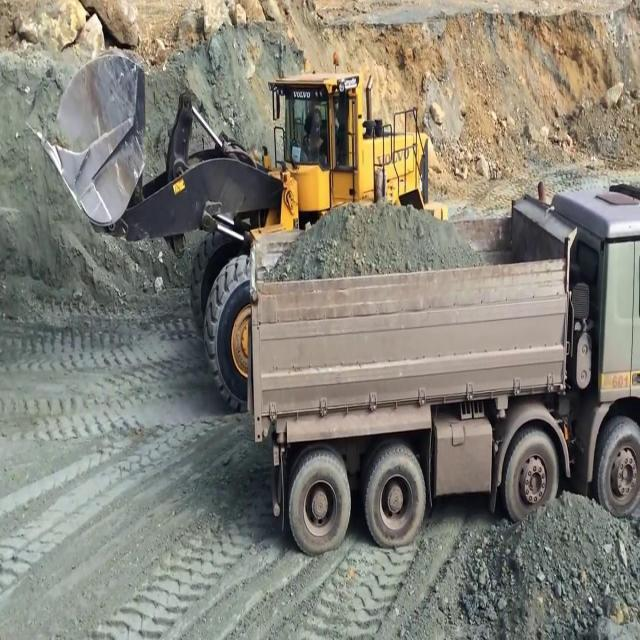Dump Truck: (248, 177, 640, 568)
Loader: (24, 41, 447, 418)
